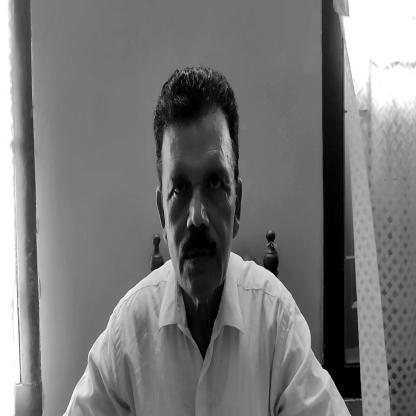Normal: (156, 78, 246, 302)
